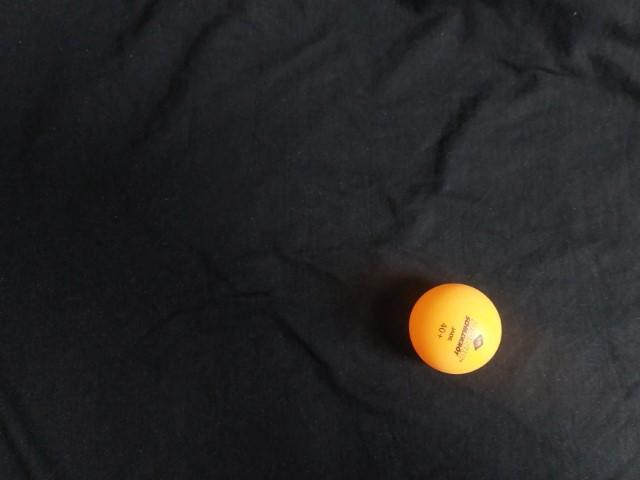oball: (129, 98, 238, 205)
